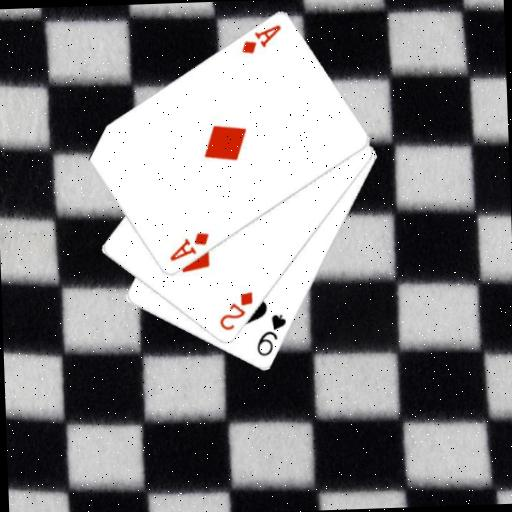2D: (215, 289, 255, 333)
9S: (252, 311, 289, 358)
AD: (237, 21, 283, 56), (165, 229, 211, 263)
